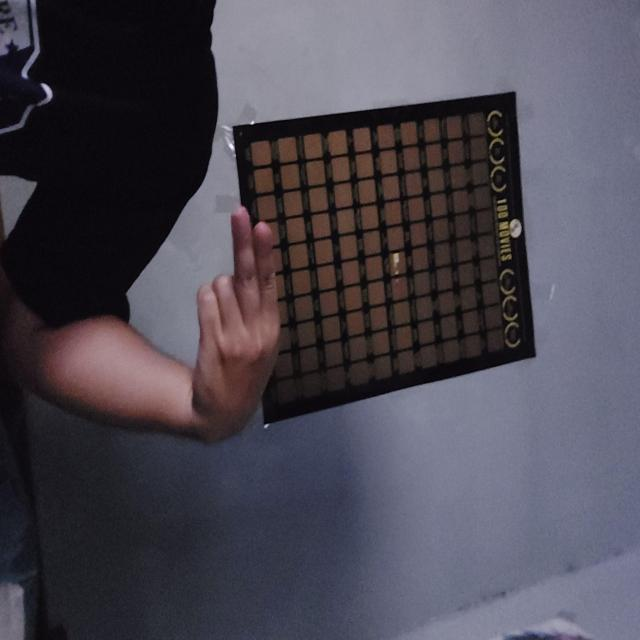H: (206, 358, 451, 450)
